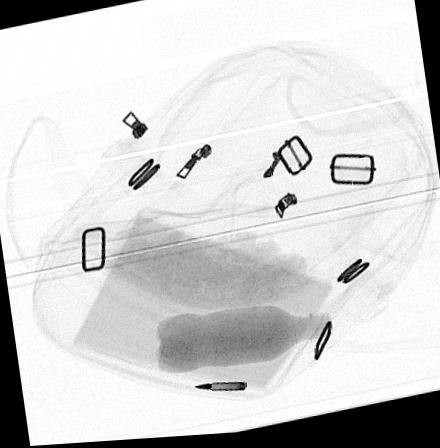Bullet: (192, 384, 247, 394)
